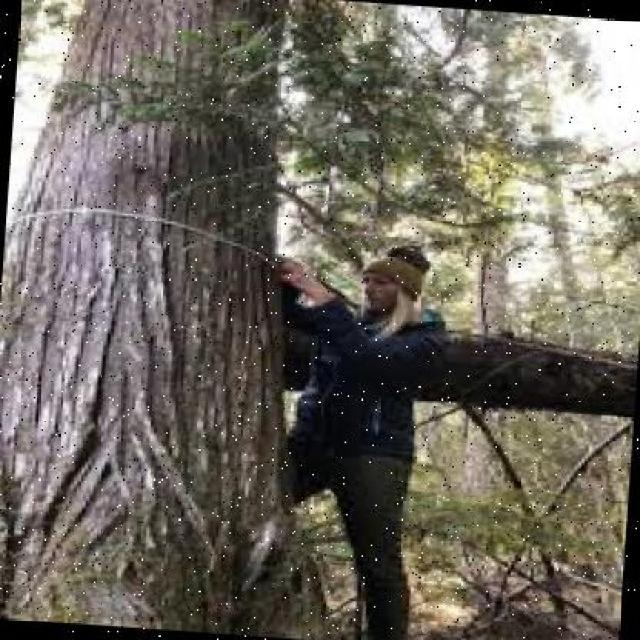Hunter: (271, 241, 452, 538)
